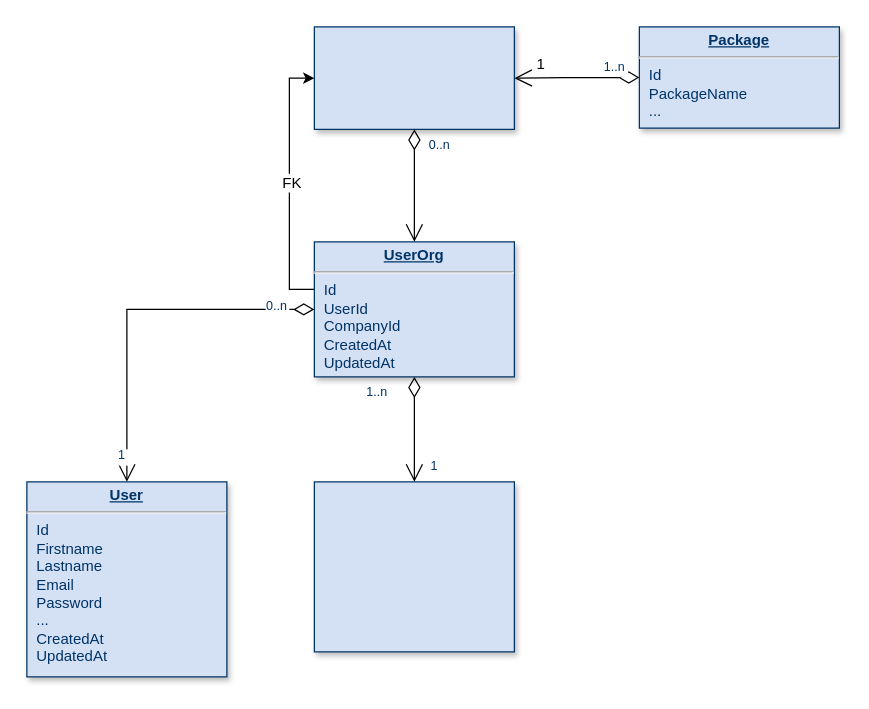
Some shapes in this 869 by 709 pixel diagram are drawn without their labels. The shapes that lost their labels are listed below. From the top down, each one's centre as x and y in pixels, then its label:
At (x=415, y=79): "UserOrgPackage RelationId PackageId".
At (x=415, y=568): "Company id CompanyName domain ... CreatedAt UpdatedAt".
